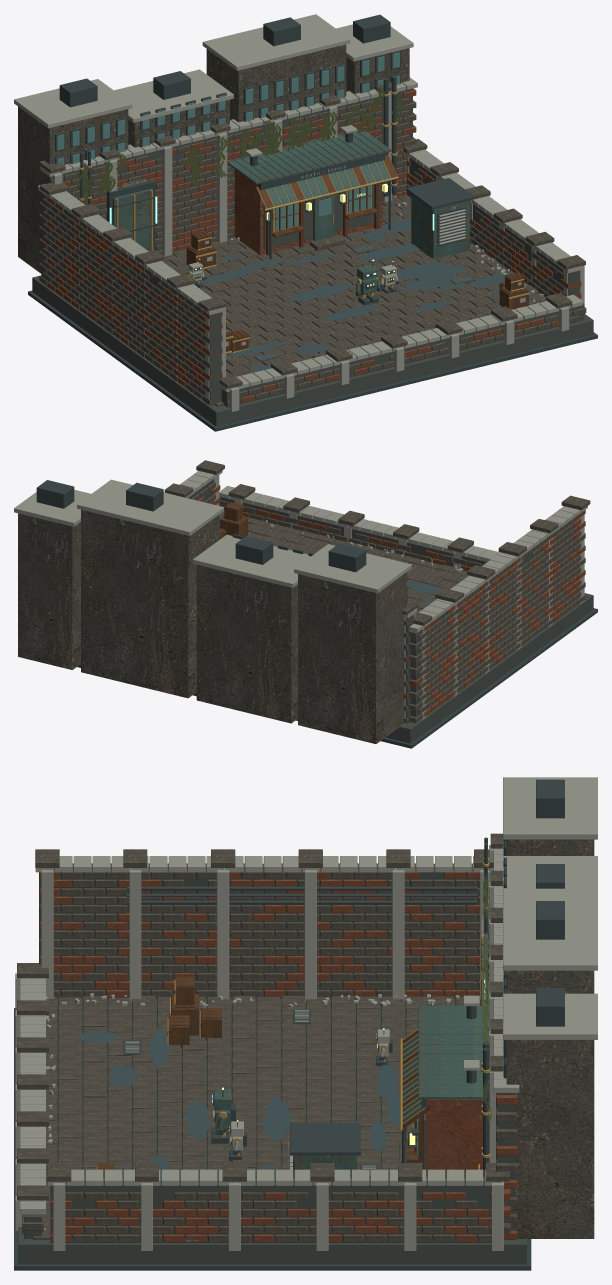
Rendered from afterlight-rain-court.glb.
The picture shows the model from 3 angles, top to bottom: view 1: azimuth 30°, elevation 25°; view 2: azimuth 150°, elevation 25°; view 3: azimuth 270°, elevation 25°; orthographic projection. The views are drawn at different scales.
Visible parts, largest first — view 1: Rain polished paving, West enclosure brickwork, Industrial skyline, Foundation, North enclosure brickwork, Skyline cornices, Rainwater pools, Shop standing seam roof, North enclosure mortar, Ivy leaves, Skyline glazing, South cutaway coping (+33 smaller); view 2: Industrial skyline, West enclosure brickwork, Skyline cornices, Foundation, Rain polished paving, Roof machinery, South cutaway coping, South cutaway brickwork, West enclosure coping, West enclosure mortar, West enclosure capitals, West enclosure pilasters (+6 smaller); view 3: Rain polished paving, West enclosure brickwork, Industrial skyline, Foundation, East cutaway brickwork, Skyline cornices, West enclosure mortar, West enclosure pilasters, East cutaway mortar, Shop standing seam roof, East cutaway coping, West enclosure coping (+25 smaller).
Part boxes in pixels (x1=…): Rain polished paving: x1=162, y1=195, x2=546, y2=406; West enclosure brickwork: x1=39, y1=191, x2=222, y2=405; Industrial skyline: x1=18, y1=44, x2=409, y2=273; Foundation: x1=28, y1=244, x2=597, y2=431; North enclosure brickwork: x1=43, y1=88, x2=416, y2=254; Skyline cornices: x1=14, y1=14, x2=413, y2=128; Rainwater pools: x1=200, y1=219, x2=513, y2=372; Shop standing seam roof: x1=228, y1=130, x2=391, y2=184; North enclosure mortar: x1=43, y1=88, x2=412, y2=251; Ivy leaves: x1=77, y1=87, x2=405, y2=204; Skyline glazing: x1=57, y1=52, x2=399, y2=164; South cutaway coping: x1=219, y1=294, x2=582, y2=392; Industrial skyline: x1=18, y1=509, x2=407, y2=743; West enclosure brickwork: x1=409, y1=510, x2=585, y2=723; Skyline cornices: x1=14, y1=479, x2=411, y2=593; Foundation: x1=77, y1=593, x2=597, y2=748; Rain polished paving: x1=220, y1=511, x2=468, y2=612; Roof machinery: x1=36, y1=480, x2=366, y2=572; South cutaway coping: x1=219, y1=486, x2=499, y2=561; South cutaway brickwork: x1=219, y1=500, x2=483, y2=571; West enclosure coping: x1=409, y1=506, x2=587, y2=632; West enclosure mortar: x1=410, y1=519, x2=578, y2=716; West enclosure capitals: x1=413, y1=495, x2=590, y2=625; West enclosure pilasters: x1=421, y1=506, x2=584, y2=719; Rain polished paving: x1=33, y1=995, x2=480, y2=1239; West enclosure brickwork: x1=39, y1=863, x2=479, y2=997; Industrial skyline: x1=506, y1=839, x2=594, y2=1238; Foundation: x1=14, y1=998, x2=531, y2=1270; East cutaway brickwork: x1=50, y1=1189, x2=510, y2=1242; Skyline cornices: x1=503, y1=777, x2=597, y2=1039; West enclosure mortar: x1=39, y1=863, x2=479, y2=998; West enclosure pilasters: x1=41, y1=868, x2=490, y2=1001; East cutaway mortar: x1=50, y1=1177, x2=491, y2=1242; Shop standing seam roof: x1=418, y1=1005, x2=488, y2=1099; East cutaway coping: x1=47, y1=1169, x2=502, y2=1185; West enclosure coping: x1=35, y1=856, x2=488, y2=872.
Size of the model in its own units: 20.95 by 10.52 by 19.98.
13 materials, 4 textured.
